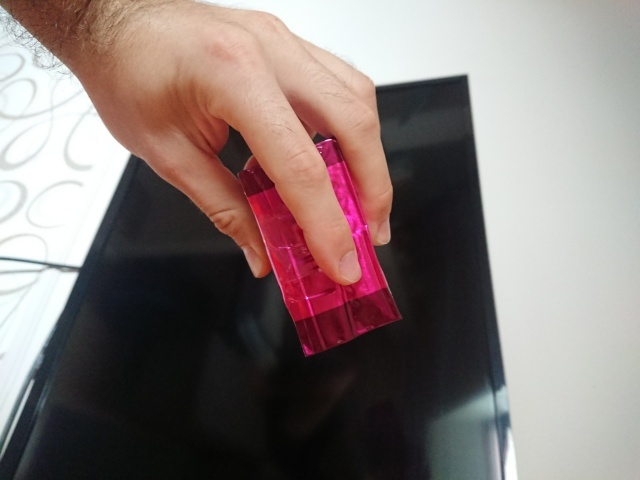Barcaffe Classic Original 225g: (235, 133, 405, 360)
